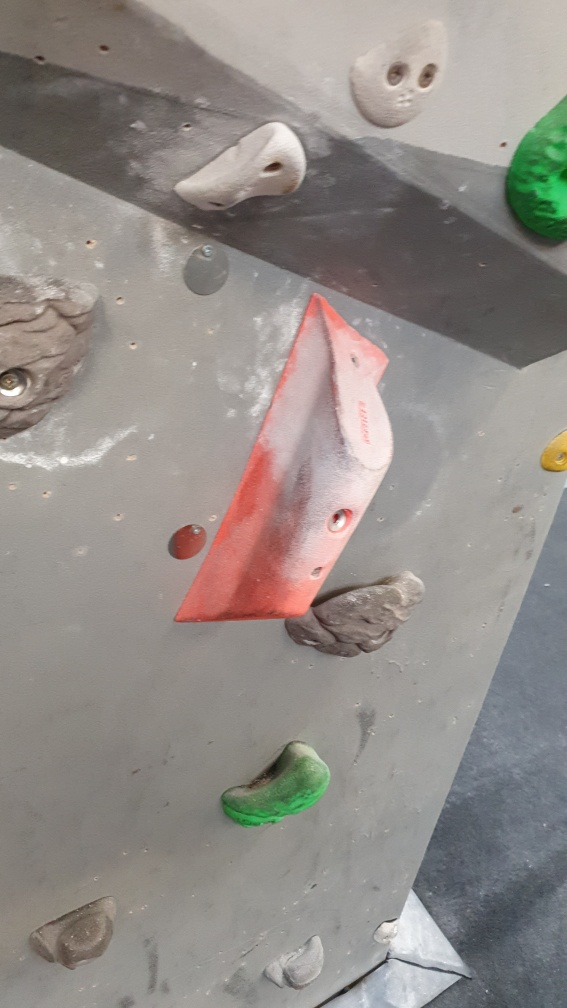Hand Start: (179, 241, 234, 299), (164, 519, 210, 567)
Pinch: (172, 292, 393, 628)
Pocket: (281, 570, 426, 658), (219, 739, 334, 825)
